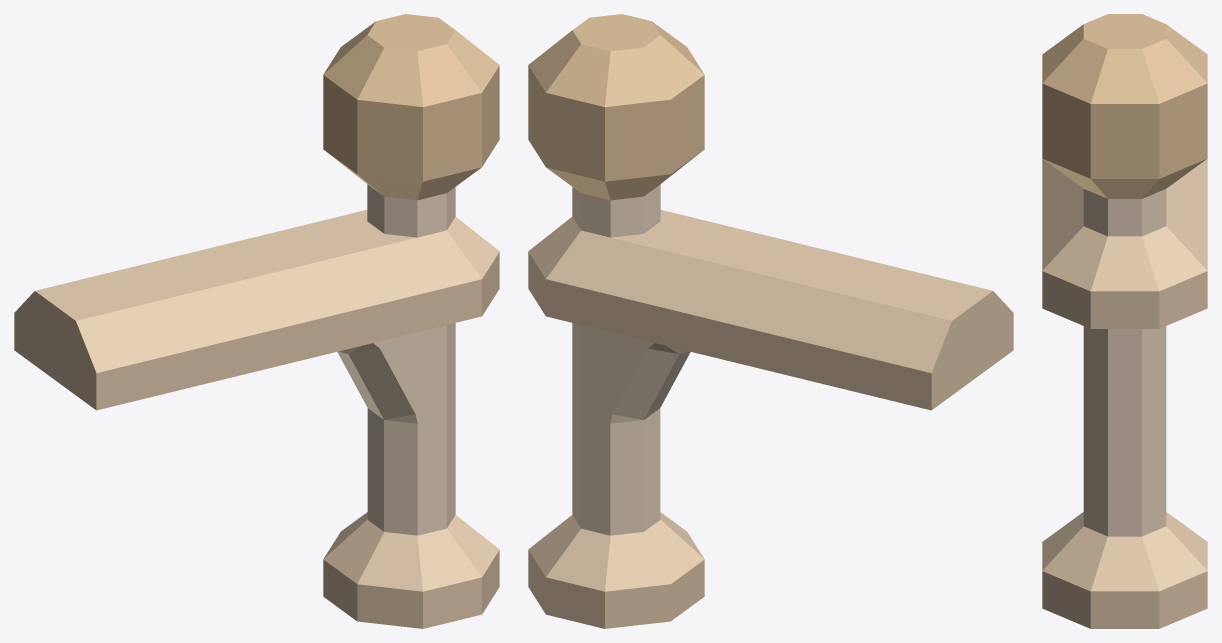
The model's file is opengameart-modular-temple-3d-models_3.glb.
3 views of the same model, side by side, from view 1: azimuth 30°, elevation 25°; view 2: azimuth 150°, elevation 25°; view 3: azimuth 270°, elevation 25° (orthographic).
Visible parts, largest first — view 1: object1; view 2: object1; view 3: object1.
Part boxes in pixels (bbox=[...]): object1: bbox=[14, 14, 499, 628]; object1: bbox=[528, 14, 1013, 628]; object1: bbox=[1042, 14, 1207, 628].
Bounding box in the file's own units: 0.6 × 0.75 × 0.2.
